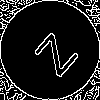Z: (25, 25, 80, 78)
